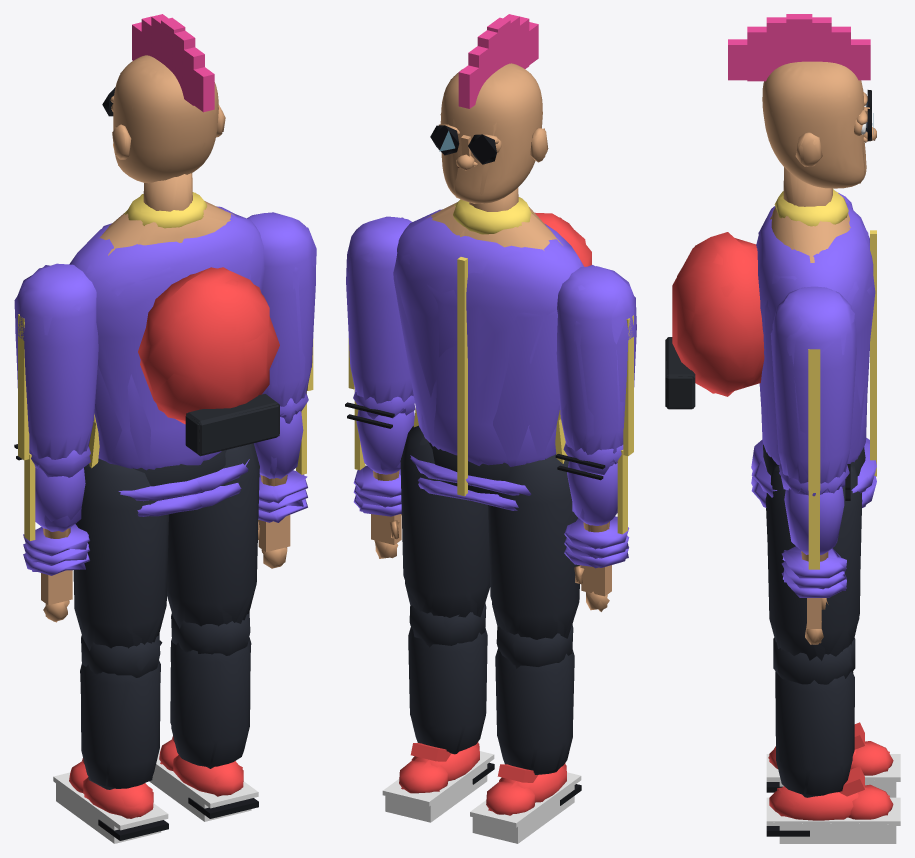
File: char_punk.glb
The picture shows the model from 3 angles, left to right: view 1: azimuth 30°, elevation 25°; view 2: azimuth 150°, elevation 25°; view 3: azimuth 270°, elevation 25°; orthographic projection. The views are drawn at different scales.
Visible parts, largest first — view 1: lod_low, torso_jacket, leg_L_pant, arm_L_sleeve, leg_R_pant, torso_d_ff4f4f, head_skull, arm_R_sleeve, shin_L_pant, shin_R_pant, torso_d_23262c, head_d_hair (+25 smaller); view 2: lod_low, torso_jacket, leg_L_pant, arm_L_sleeve, leg_R_pant, arm_R_sleeve, head_skull, shin_L_pant, shin_R_pant, head_d_hair, torso_d_top2, shin_L_d_ff4f4f (+22 smaller); view 3: lod_low, arm_R_sleeve, head_skull, torso_jacket, leg_R_pant, torso_d_ff4f4f, shin_R_pant, shin_R_d_ff4f4f, forearm_R_sleeve, shin_R_d_pants, arm_R_d_top2, torso_body (+15 smaller).
Boxes of the visible parts, left/top/right/bottom form: lod_low: left=14, top=16, right=316, bottom=843; torso_jacket: left=69, top=206, right=264, bottom=469; leg_L_pant: left=73, top=459, right=168, bottom=648; arm_L_sleeve: left=15, top=263, right=98, bottom=468; leg_R_pant: left=167, top=443, right=259, bottom=626; torso_d_ff4f4f: left=140, top=267, right=269, bottom=420; head_skull: left=113, top=55, right=218, bottom=183; arm_R_sleeve: left=247, top=212, right=315, bottom=416; shin_L_pant: left=80, top=661, right=160, bottom=788; shin_R_pant: left=170, top=640, right=250, bottom=766; torso_d_23262c: left=185, top=394, right=279, bottom=456; head_d_hair: left=132, top=14, right=214, bottom=112; lod_low: left=347, top=16, right=635, bottom=843; torso_jacket: left=396, top=209, right=584, bottom=465; leg_L_pant: left=488, top=455, right=579, bottom=639; arm_L_sleeve: left=556, top=266, right=636, bottom=464; leg_R_pant: left=400, top=425, right=489, bottom=617; arm_R_sleeve: left=346, top=216, right=413, bottom=416; head_skull: left=440, top=63, right=542, bottom=203; shin_L_pant: left=497, top=648, right=573, bottom=772; shin_R_pant: left=410, top=629, right=486, bottom=751; head_d_hair: left=458, top=14, right=538, bottom=108; torso_d_top2: left=413, top=257, right=567, bottom=496; shin_L_d_ff4f4f: left=486, top=764, right=566, bottom=814; lod_low: left=666, top=19, right=896, bottom=843; arm_R_sleeve: left=772, top=286, right=856, bottom=495; head_skull: left=762, top=61, right=866, bottom=188; torso_jacket: left=756, top=206, right=873, bottom=464; leg_R_pant: left=766, top=464, right=862, bottom=660; torso_d_ff4f4f: left=677, top=232, right=764, bottom=396; shin_R_pant: left=775, top=671, right=853, bottom=796; shin_R_d_ff4f4f: left=769, top=766, right=893, bottom=820; forearm_R_sleeve: left=784, top=486, right=844, bottom=554; shin_R_d_pants: left=773, top=637, right=855, bottom=684; arm_R_d_top2: left=808, top=349, right=820, bottom=490; torso_body: left=771, top=207, right=849, bottom=262.
Bounding box in the file's own units: 0.7703 × 2.03 × 0.545.
